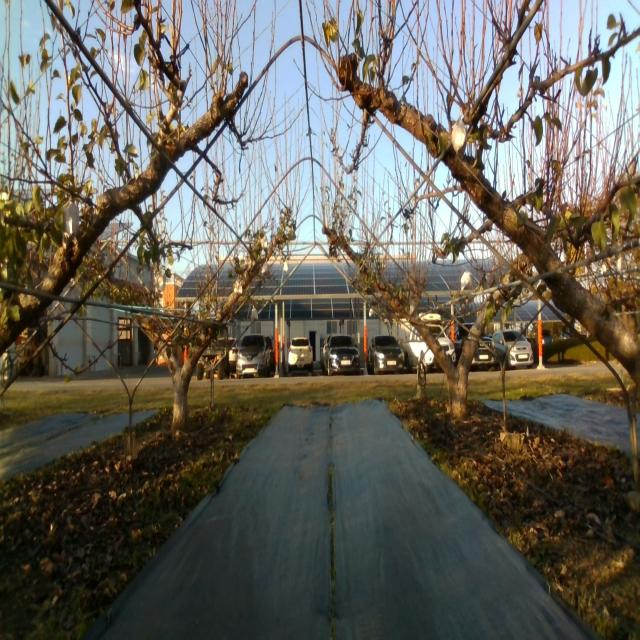pearbags: (62, 202, 80, 236), (452, 118, 466, 156), (460, 271, 473, 292), (154, 270, 166, 292)
